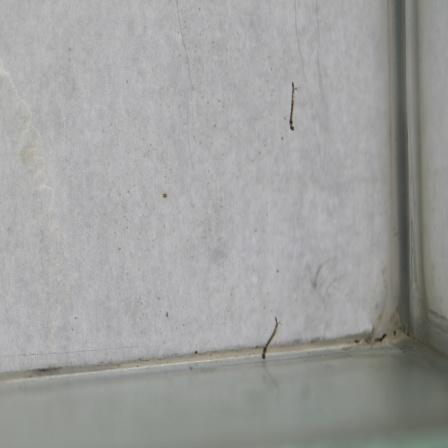Jentik-Nyamuk: (256, 313, 287, 365), (280, 81, 306, 137)
